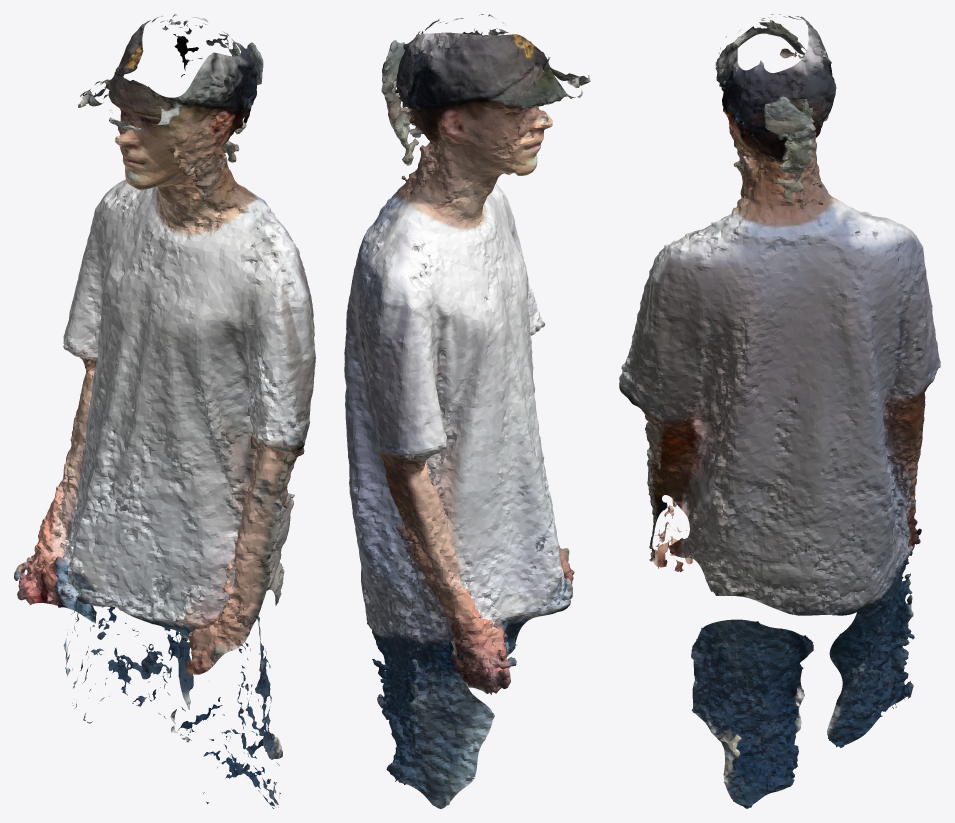
3 views of the same model, side by side, from view 1: azimuth 30°, elevation 25°; view 2: azimuth 150°, elevation 25°; view 3: azimuth 270°, elevation 25° (orthographic). The views are drawn at different scales.
Size of the model in its own units: 0.3689 by 1.32 by 0.5175.
1 material, 1 textured.
